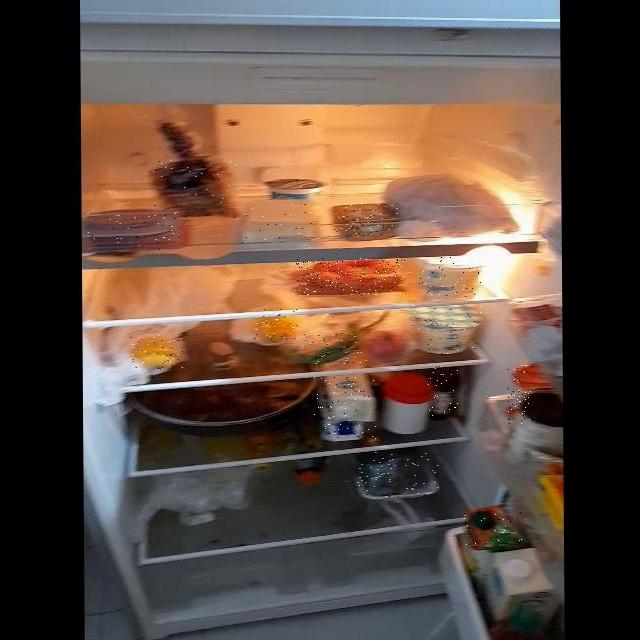bread: (153, 160, 238, 218)
broccoli: (355, 452, 439, 497)
butter: (334, 203, 398, 238)
carrot: (295, 258, 405, 296)
cheese: (236, 204, 320, 243)
green chilies: (301, 332, 368, 365)
juice: (463, 508, 524, 556)
lemon: (130, 335, 183, 370), (254, 308, 297, 340)
milk: (487, 550, 558, 636), (314, 376, 376, 439)
salami: (87, 210, 182, 249)
sauce: (428, 365, 459, 416), (508, 366, 531, 425)
yoghurt: (411, 305, 481, 354), (418, 255, 482, 297), (267, 175, 327, 200)
